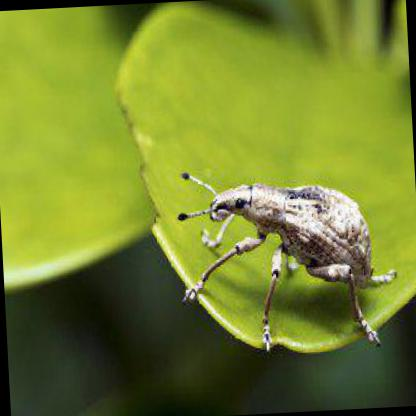ash weevil: (186, 173, 392, 351)
